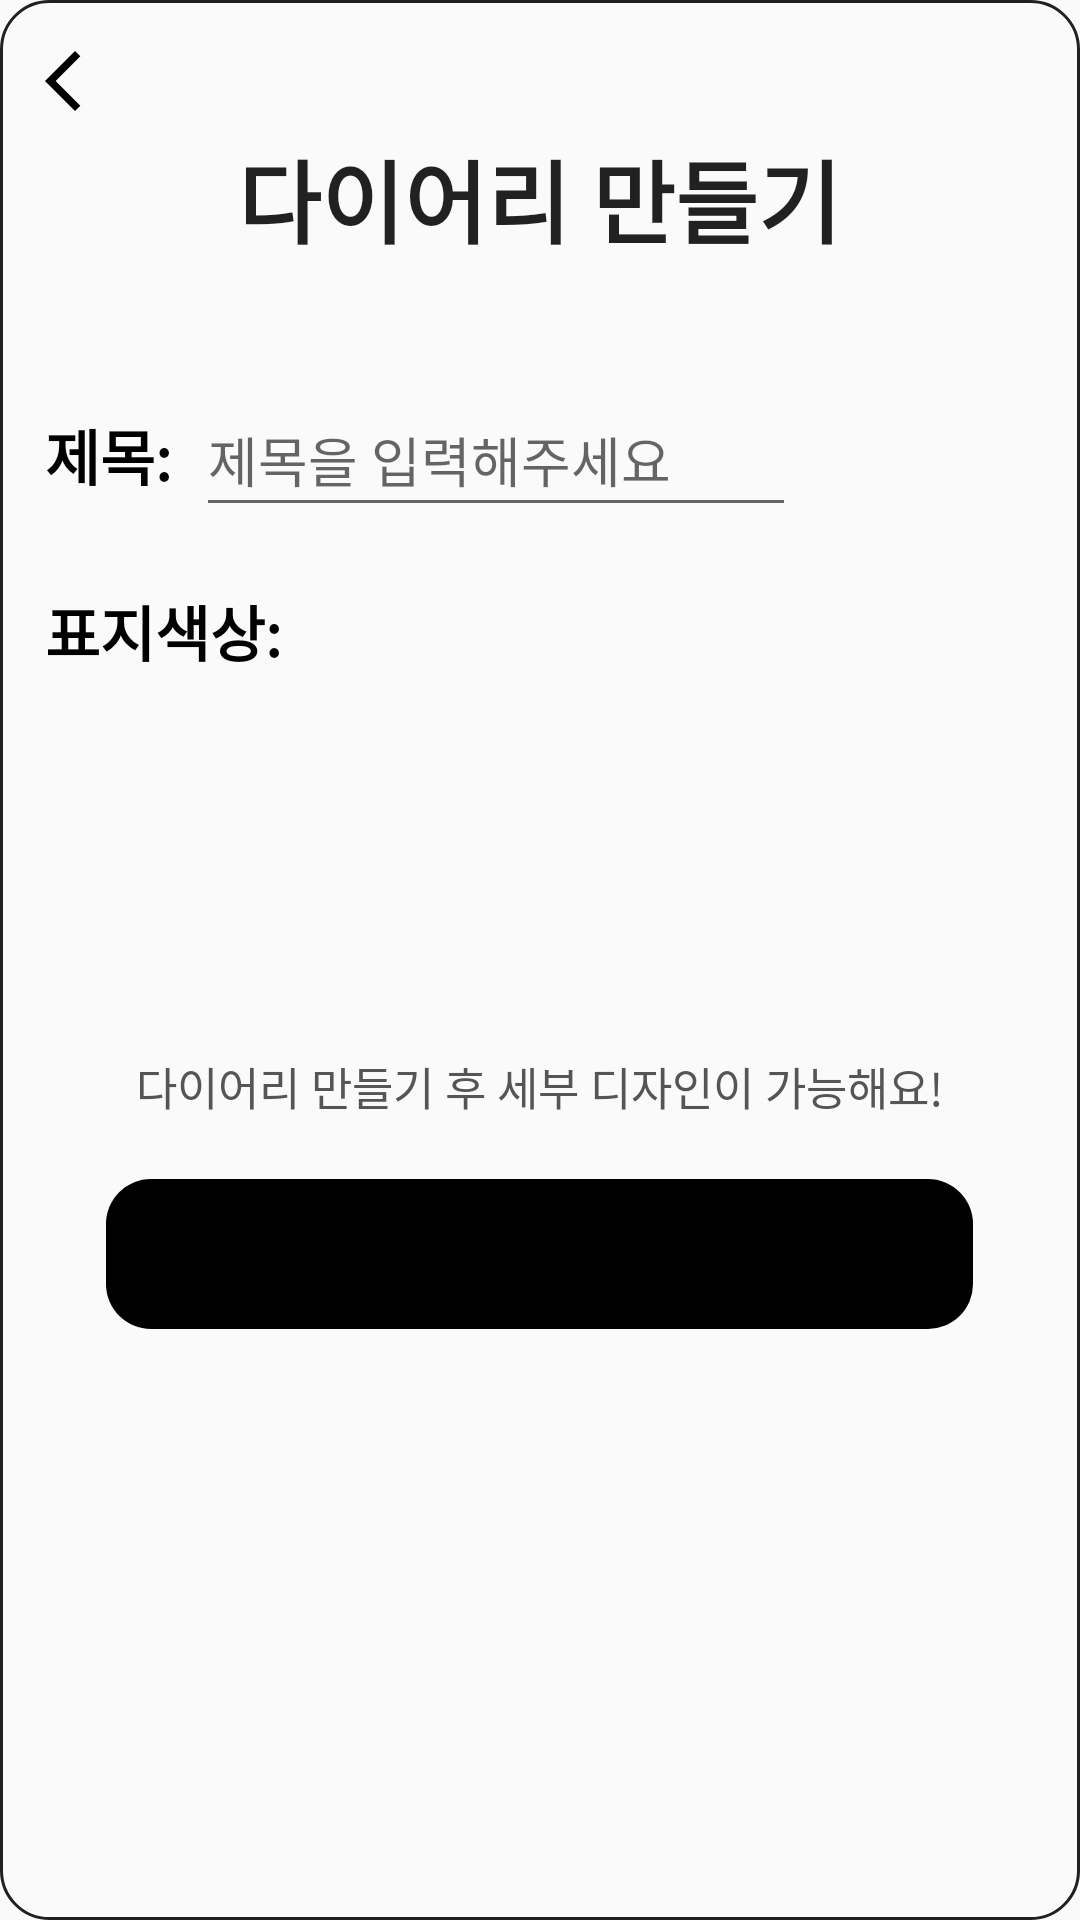

Screen size 1080*1920. Icon name, then its box in pixels as Rect(x1, y1, x2, y2):
뒤로가기: Rect(45, 51, 80, 111)
